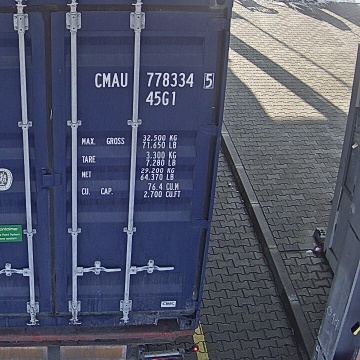serial_id: (95, 72, 212, 88)
